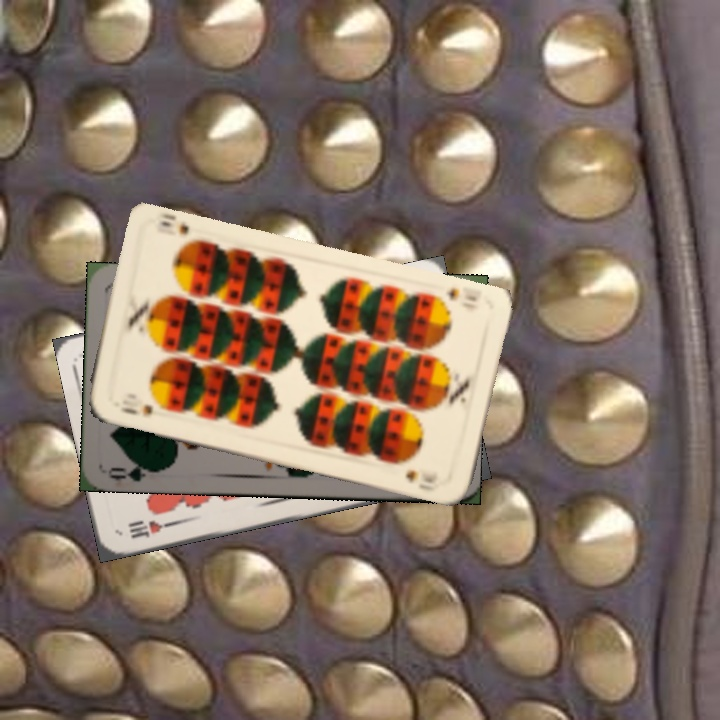GO: (105, 457, 164, 484)
H10: (125, 516, 178, 541)
S10: (442, 284, 481, 305), (117, 400, 156, 420)
